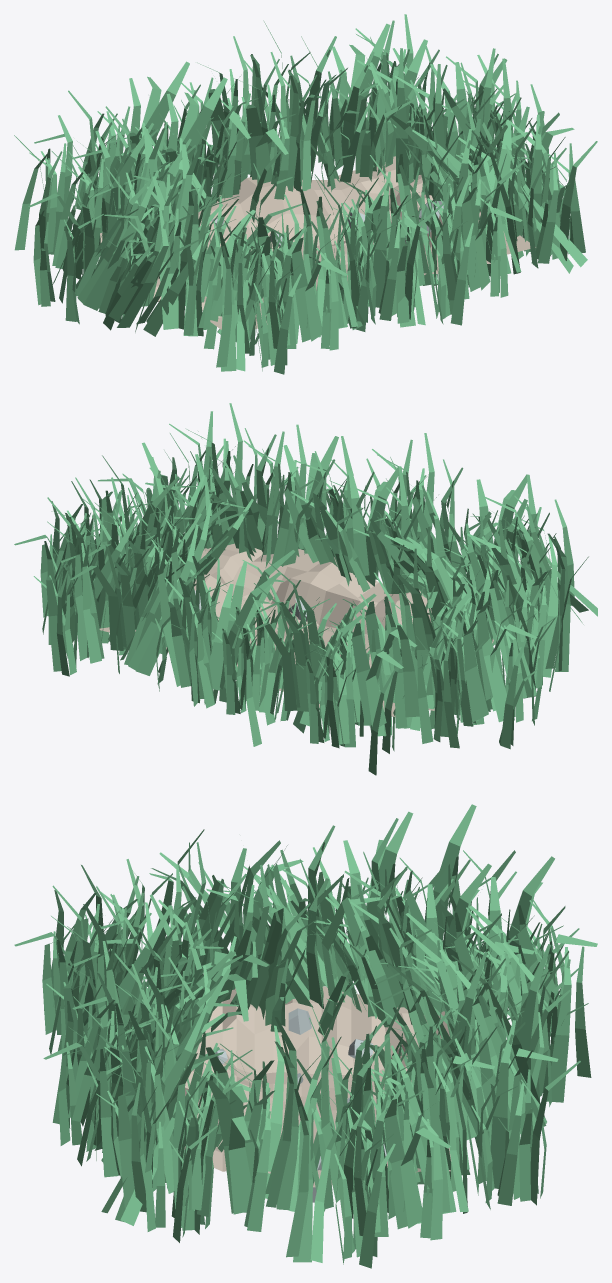
Rendered from 041320landscapeModel01.gltf.
The picture shows the model from 3 angles, top to bottom: view 1: azimuth 30°, elevation 25°; view 2: azimuth 150°, elevation 25°; view 3: azimuth 270°, elevation 25°; orthographic projection. The views are drawn at different scales.
Parts seen in each view (by area): view 1: Plane, Plane.419, Plane.599, Plane.580, Plane.385, Plane.464, Plane.382, Plane.629, Plane.567, Plane.340, Plane.579, Plane.610 (+78 smaller); view 2: Plane, Plane.441, Plane.490, Plane.449, Plane.536, Plane.442, Plane.517, Plane.704, Plane.378, Plane.148, Plane.456, Plane.496 (+65 smaller); view 3: Plane, Plane.706, Plane.675, Plane.542, Plane.725, Plane.726, Plane.674, Plane.738, Plane.739, Plane.683, Plane.441, Plane.619 (+69 smaller).
Part boxes in pixels (bbox=[...]): Plane: bbox=[100, 156, 535, 329]; Plane.419: bbox=[83, 170, 158, 310]; Plane.599: bbox=[373, 171, 390, 307]; Plane.580: bbox=[291, 237, 310, 342]; Plane.385: bbox=[117, 207, 168, 327]; Plane.464: bbox=[396, 48, 409, 182]; Plane.382: bbox=[143, 230, 210, 336]; Plane.629: bbox=[462, 187, 480, 291]; Plane.567: bbox=[216, 246, 231, 367]; Plane.340: bbox=[176, 77, 227, 178]; Plane.579: bbox=[305, 260, 347, 341]; Plane.610: bbox=[524, 114, 541, 251]; Plane: bbox=[99, 543, 493, 716]; Plane.441: bbox=[463, 620, 488, 722]; Plane.490: bbox=[136, 524, 198, 675]; Plane.449: bbox=[397, 625, 421, 717]; Plane.536: bbox=[209, 583, 233, 690]; Plane.442: bbox=[476, 591, 506, 722]; Plane.517: bbox=[352, 623, 371, 724]; Plane.704: bbox=[82, 544, 101, 663]; Plane.378: bbox=[543, 536, 557, 677]; Plane.148: bbox=[348, 471, 369, 577]; Plane.456: bbox=[241, 623, 296, 710]; Plane.496: bbox=[70, 565, 123, 650]; Plane: bbox=[184, 986, 451, 1187]; Plane.706: bbox=[490, 1020, 515, 1188]; Plane.675: bbox=[228, 1116, 251, 1214]; Plane.542: bbox=[546, 947, 571, 1102]; Plane.725: bbox=[384, 1099, 420, 1229]; Plane.726: bbox=[400, 1127, 450, 1228]; Plane.674: bbox=[274, 1041, 298, 1210]; Plane.738: bbox=[286, 1106, 309, 1257]; Plane.739: bbox=[293, 1089, 312, 1262]; Plane.683: bbox=[247, 1103, 270, 1231]; Plane.441: bbox=[433, 804, 476, 940]; Plane.619: bbox=[100, 1049, 118, 1177].
Bounding box in the file's own units: 96.89 × 33.25 × 77.46.
